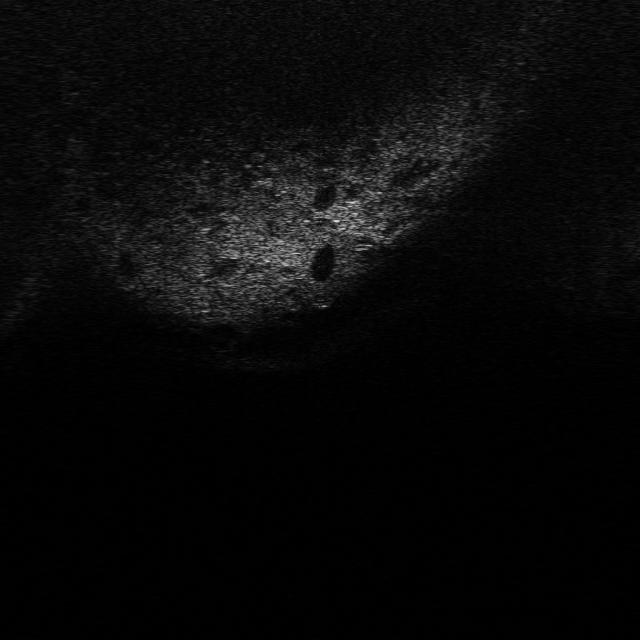ball: (303, 282, 341, 307)
